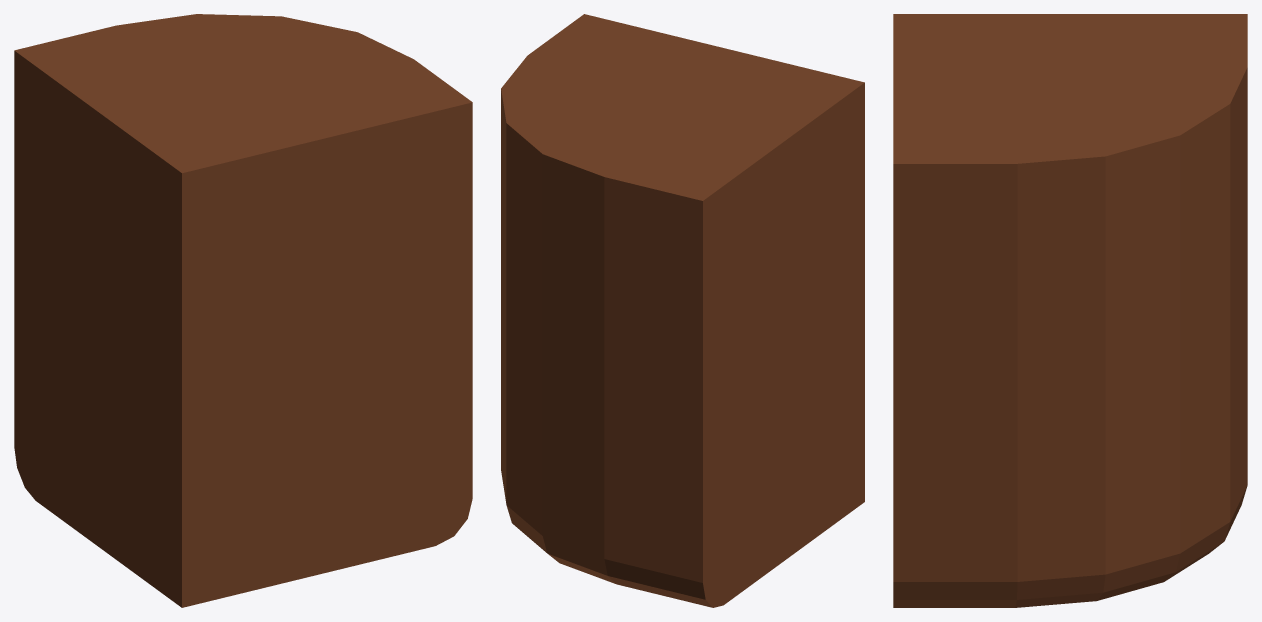
File: tank_corner.fbx
3 renders of one model, left to right at view 1: azimuth 30°, elevation 25°; view 2: azimuth 150°, elevation 25°; view 3: azimuth 270°, elevation 25°, orthographic. The views are drawn at different scales.
Parts seen in each view (by area): view 1: tank_corner; view 2: tank_corner; view 3: tank_corner.
Part boxes in pixels (x1,y1,x2,y2): tank_corner: [14, 14, 472, 607]; tank_corner: [501, 14, 864, 607]; tank_corner: [893, 14, 1247, 607].
Bounding box in the file's own units: 70 × 100 × 70.
